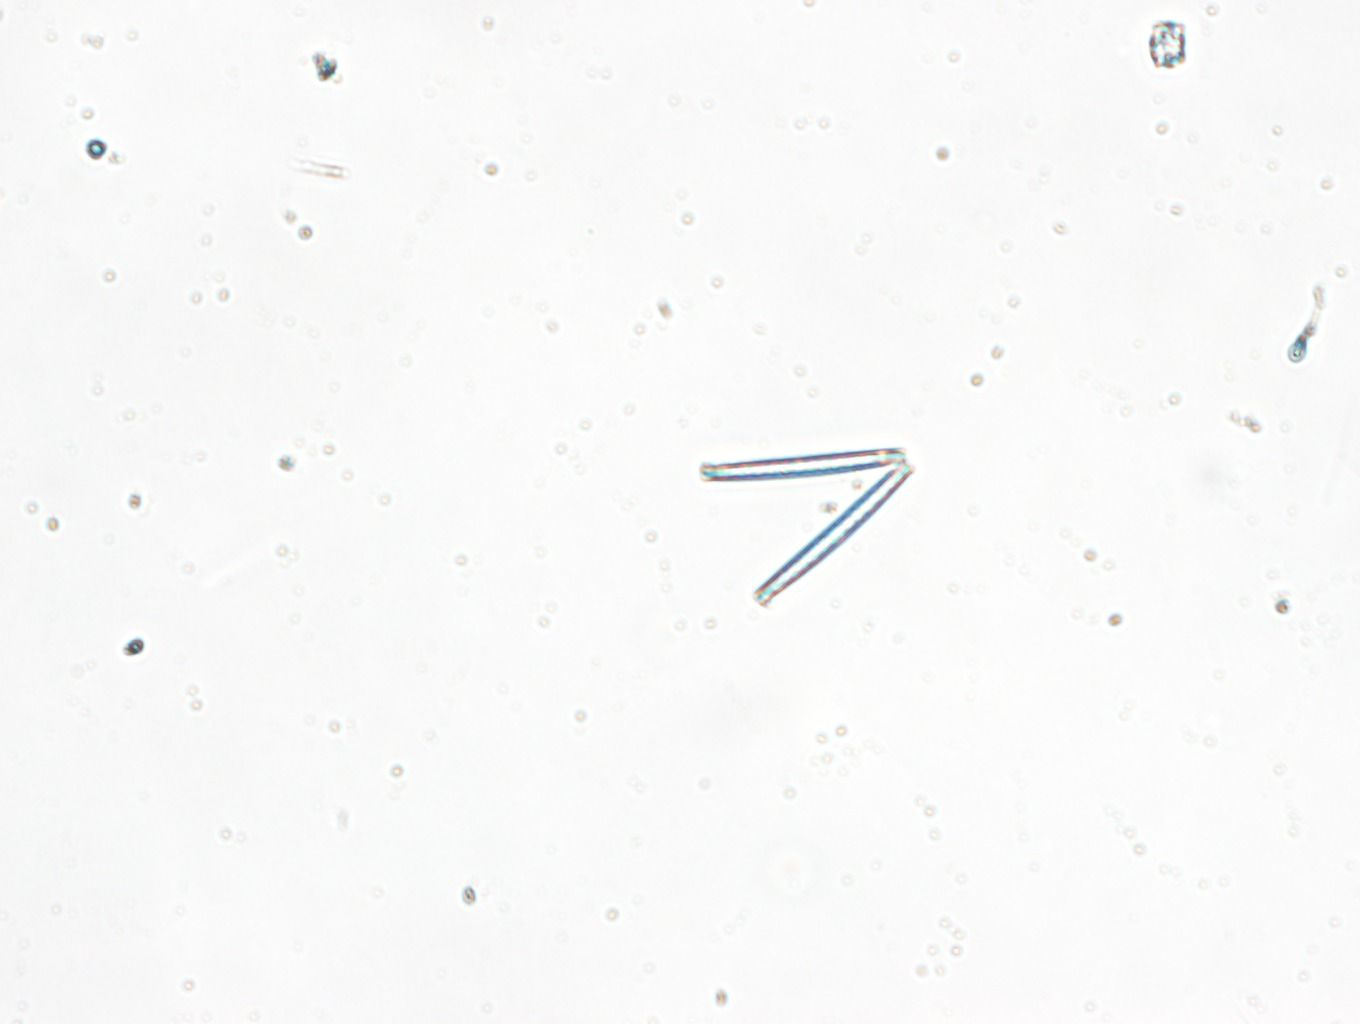thalassionema nitzschioides: (701, 447, 912, 607)
